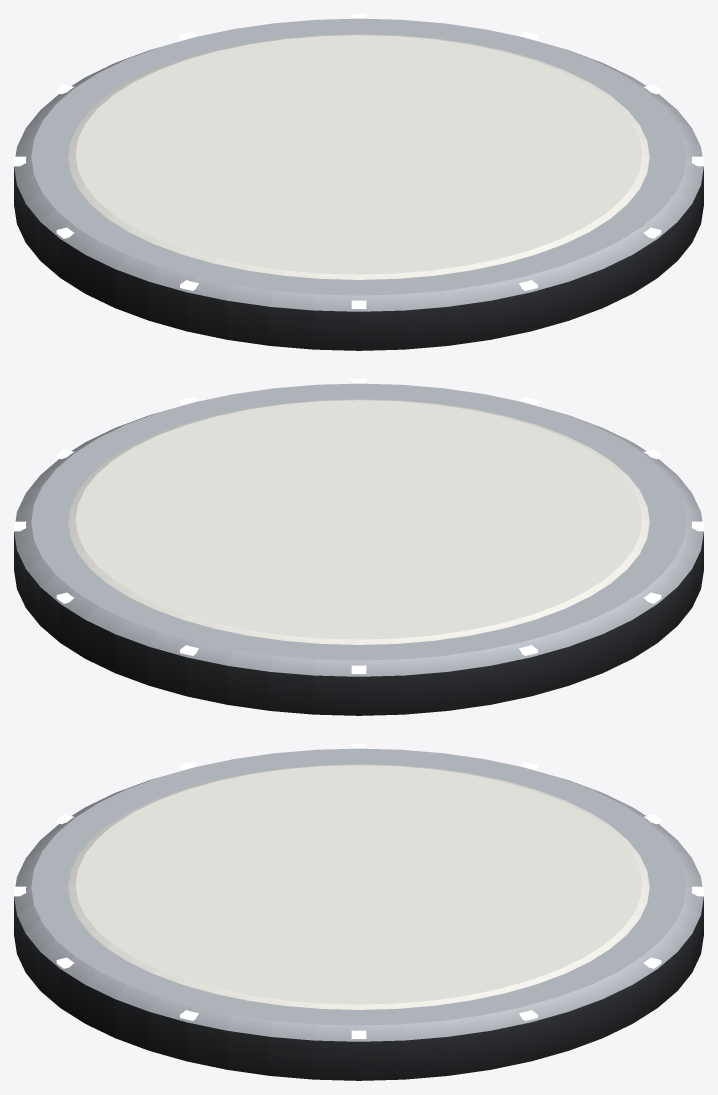
File: Car_Podium.fbx
3 renders of one model, top to bottom at view 1: azimuth 30°, elevation 25°; view 2: azimuth 150°, elevation 25°; view 3: azimuth 270°, elevation 25°, orthographic.
Visible parts, largest first — view 1: Car_Podium_LOD0; view 2: Car_Podium_LOD0; view 3: Car_Podium_LOD0.
Boxes of the visible parts, <box> form: Car_Podium_LOD0: <box>14,14,703,350</box>; Car_Podium_LOD0: <box>14,379,703,715</box>; Car_Podium_LOD0: <box>14,744,703,1080</box>.
Size of what is drawn, in the model's own units: 5.6 by 0.45 by 5.6.
1 material, 1 textured.
